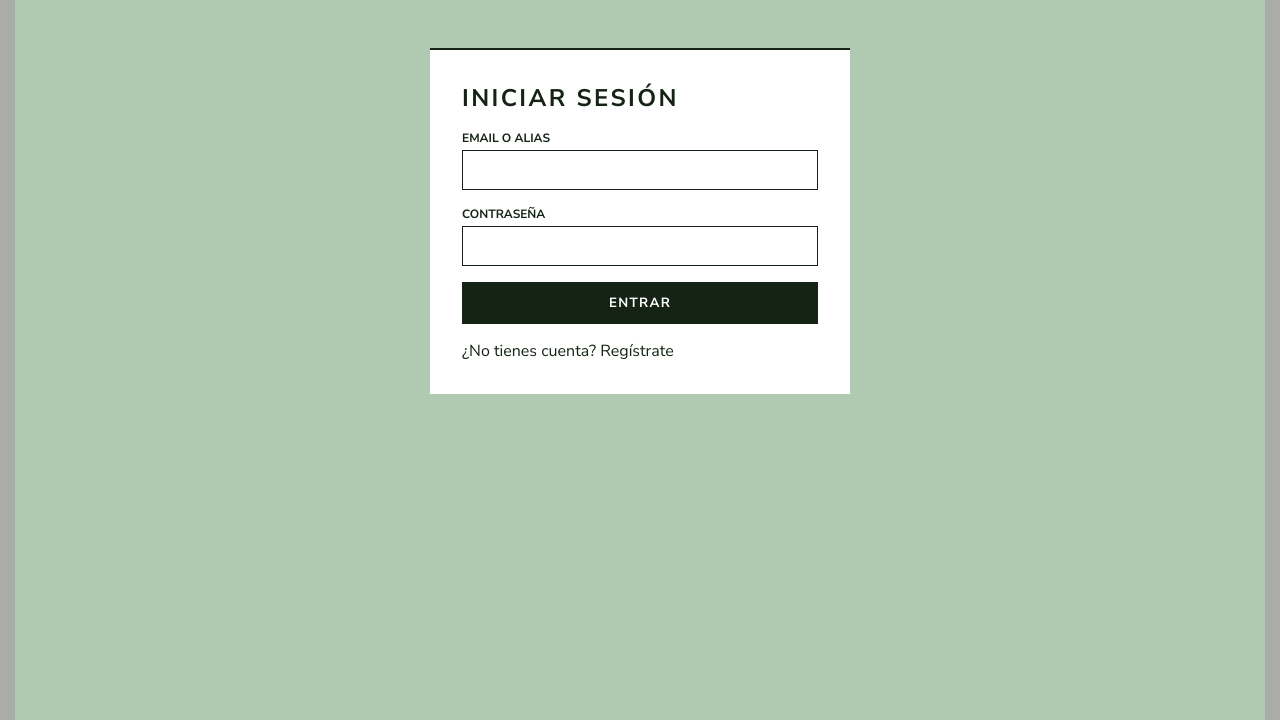
it: Login › muestra el mensaje de error cuando login falla
The image size is (1280, 720).
Type "test@test.com" into the field at (640, 170), box [462,150,818,190]
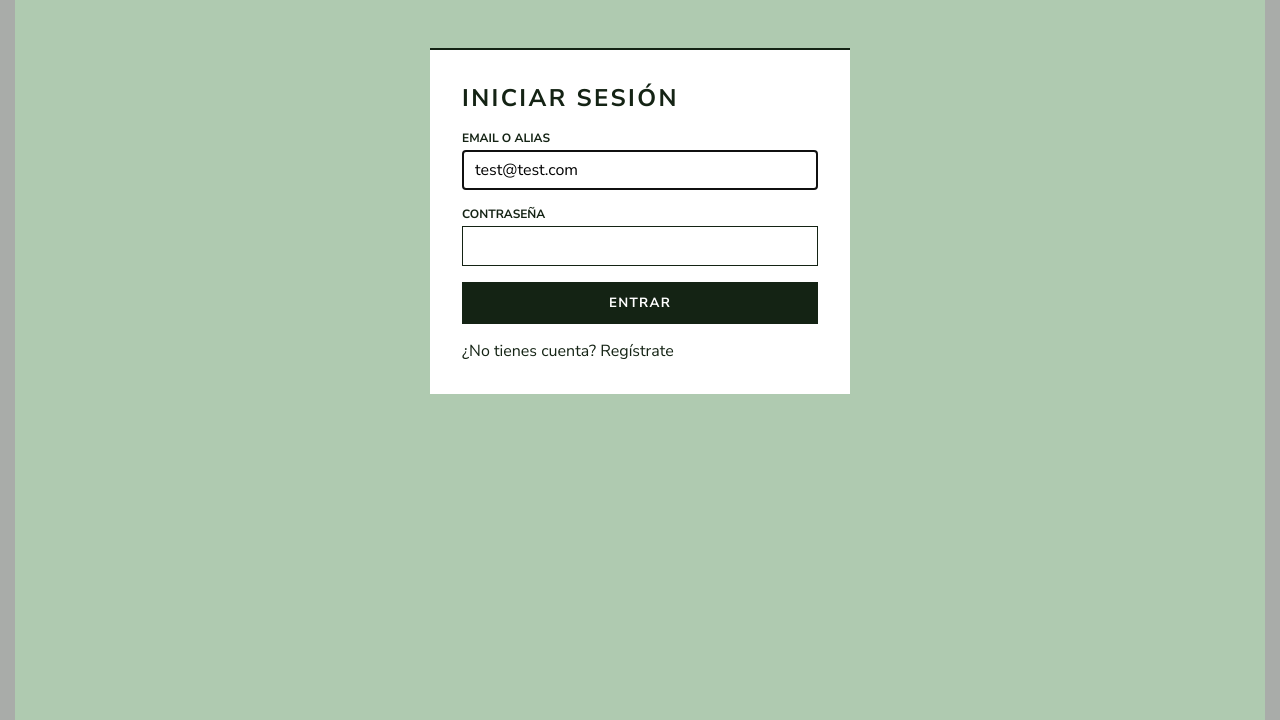
Type "wrongpass" into the password field at (640, 246), box [462,226,818,266]
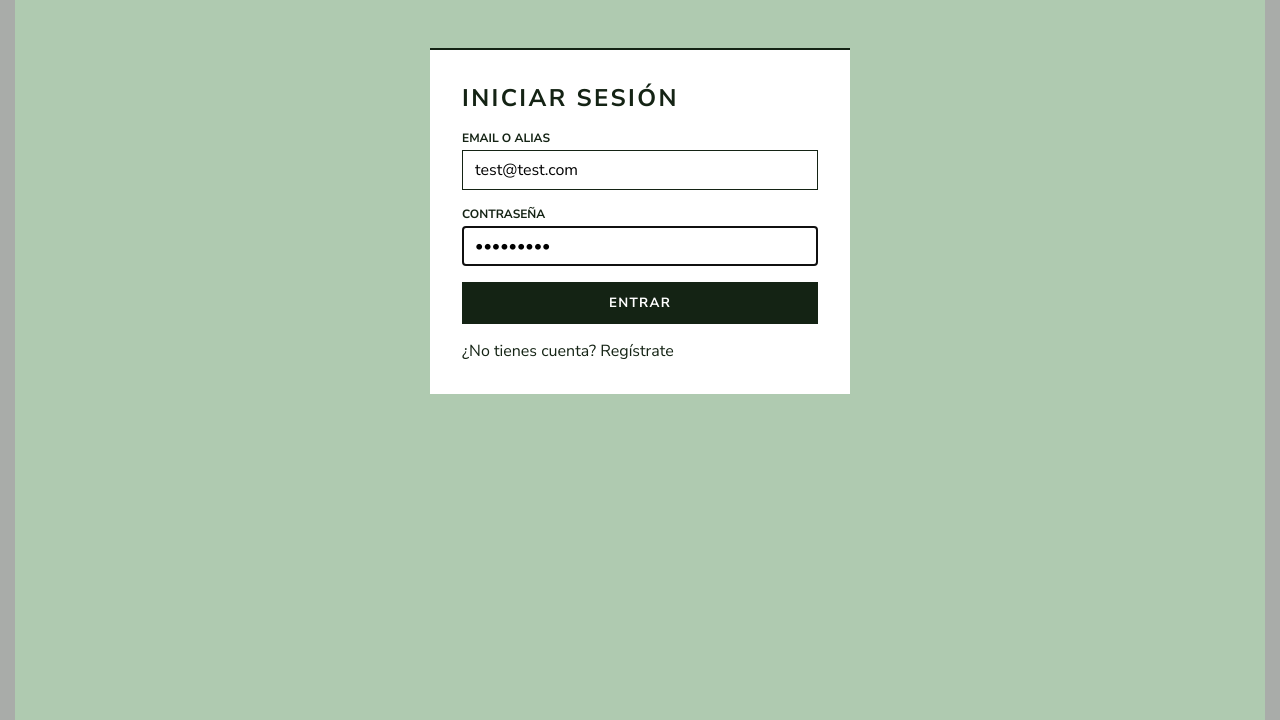
Click the button "Entrar" at (640, 303), box [462,282,818,324]
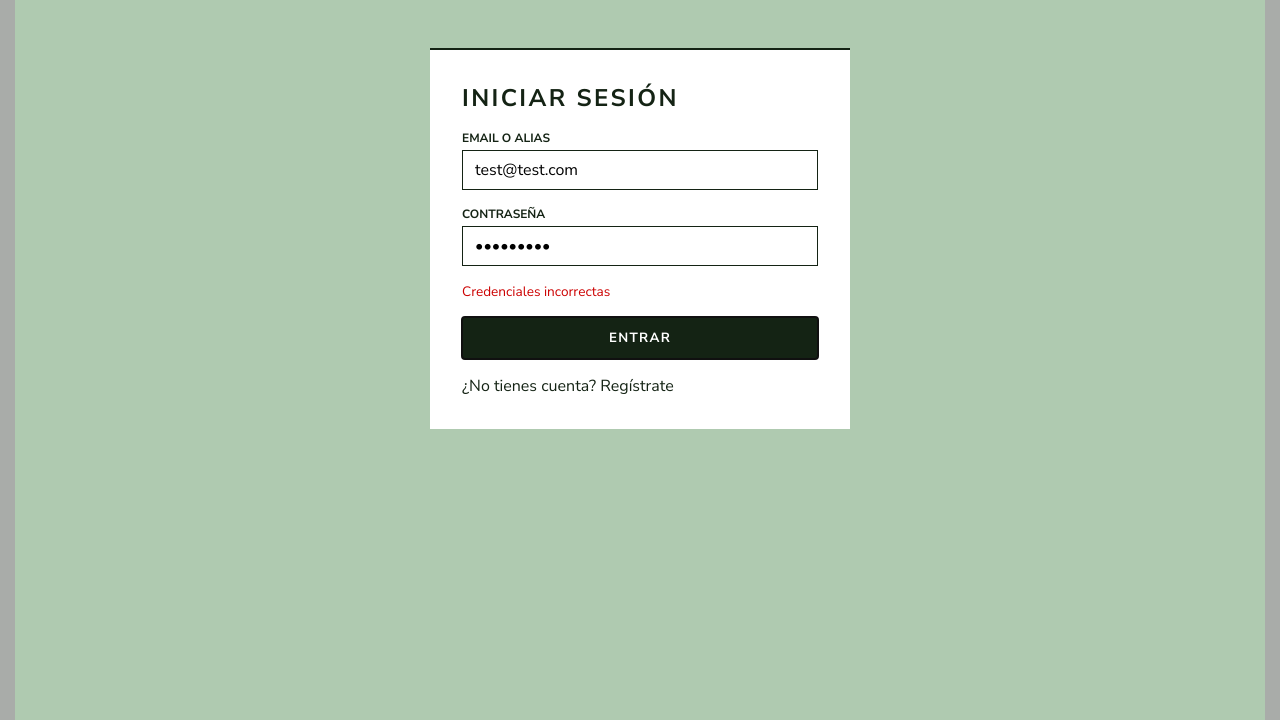
Check: the text "Credenciales incorrectas" is shown, box [462,282,610,301]
